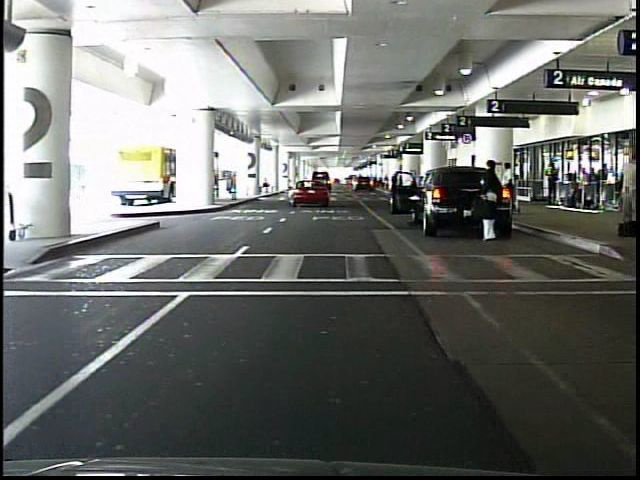person: (477, 161, 504, 246), (497, 161, 518, 217), (545, 162, 558, 206)
